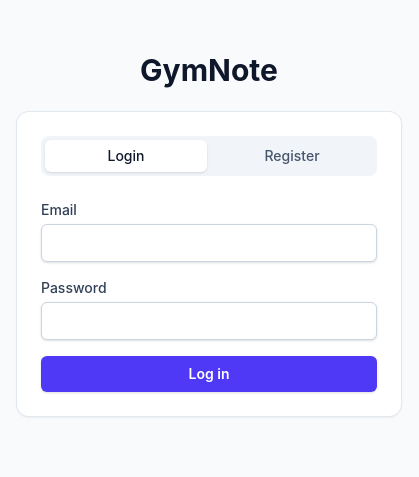
it: AuthPage › shows a conflict error when the email is already registered
The width and height of the screenshot is (419, 477).
Click the button "Register". click: (292, 156)
box: [211,140,373,172]
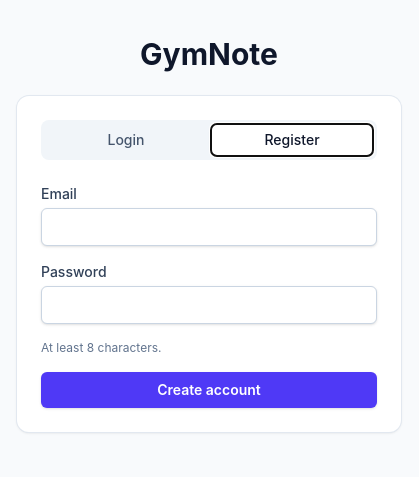
Type "taken@example.com" into the field labelled "Email". click: (209, 227)
box: [41,208,377,246]
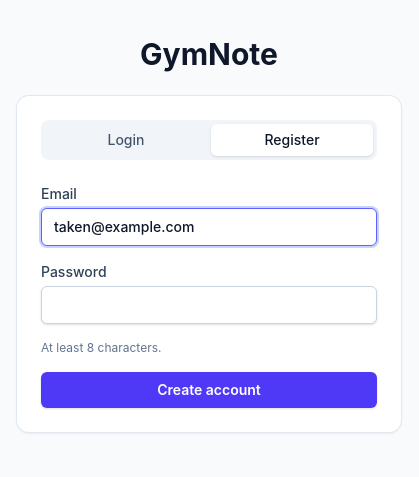
Type "Password123!" into the password field labelled "Password". click: (209, 305)
box: [41,286,377,324]
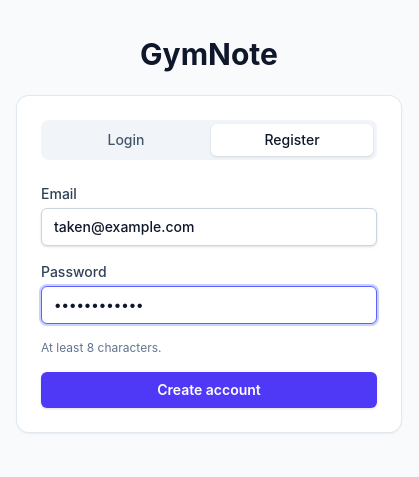
Click the button "Create account". click: (209, 390)
box: [41,372,377,408]
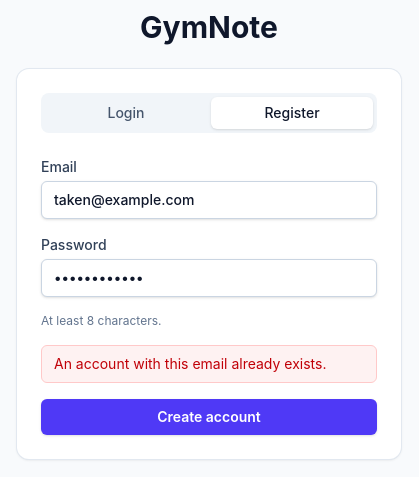
Check: the message shows "already exists", box [54,355,326,372]
